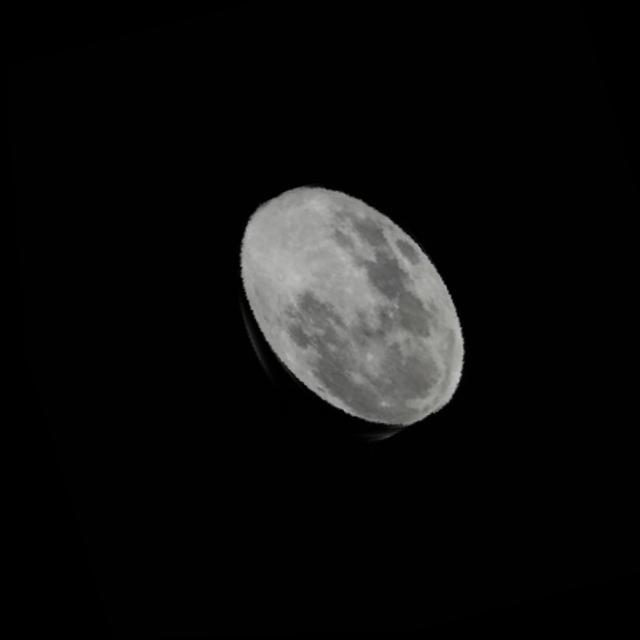moon: (192, 158, 486, 474)
